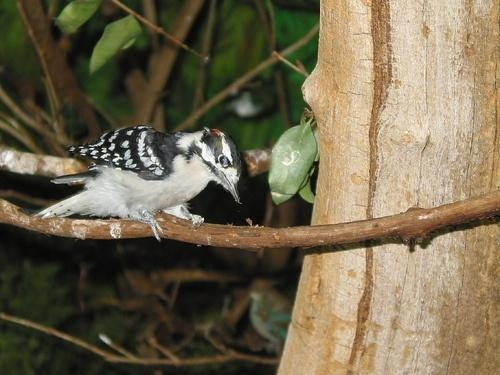bird: (34, 124, 242, 243)
